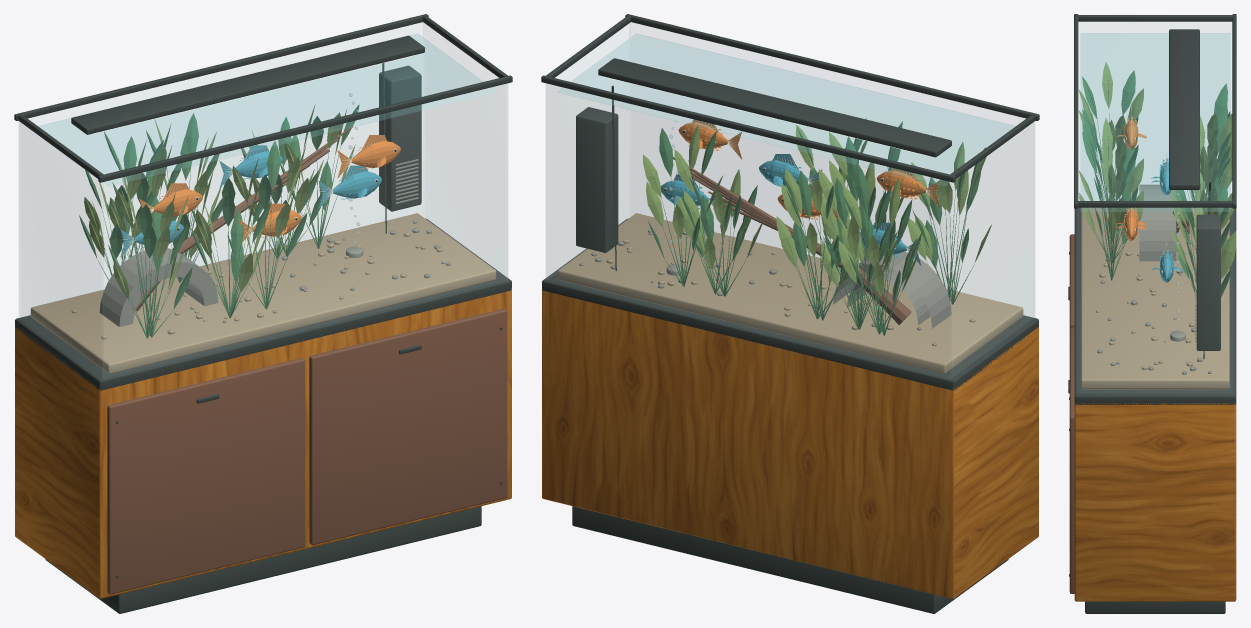
File: planted-aquarium.glb
3 views of the same model, side by side, from view 1: azimuth 30°, elevation 25°; view 2: azimuth 150°, elevation 25°; view 3: azimuth 270°, elevation 25° (orthographic). The views are drawn at different scales.
Parts seen in each view (by area): view 1: planted-aquarium, aquarium_fish_5, aquarium_fish_2, aquarium_fish_3, aquarium_fish_4, aquarium_fish_1; view 2: planted-aquarium, aquarium_fish_3, aquarium_fish_4, aquarium_fish_5, aquarium_fish_2; view 3: planted-aquarium, aquarium_fish_2, aquarium_fish_3, aquarium_fish_5, aquarium_fish_4.
Part boxes in pixels (x1,y1,x2,y2): planted-aquarium: (14,14,512,613); aquarium_fish_5: (351,135,400,169); aquarium_fish_2: (333,165,381,199); aquarium_fish_3: (153,183,202,216); aquarium_fish_4: (236,145,282,179); aquarium_fish_1: (252,203,301,237); planted-aquarium: (541,14,1039,613); aquarium_fish_3: (877,168,925,199); aquarium_fish_4: (759,154,808,186); aquarium_fish_5: (678,119,727,150); aquarium_fish_2: (661,174,708,209); planted-aquarium: (1068,14,1236,613); aquarium_fish_2: (1151,246,1182,282); aquarium_fish_3: (1116,111,1146,149); aquarium_fish_5: (1115,208,1146,240); aquarium_fish_4: (1151,158,1171,195).
Bounding box in the file's own units: 1.2 × 1.25 × 0.45.
29 materials, 1 textured.
